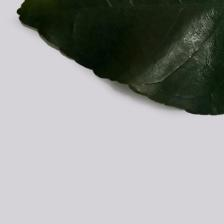healthy: (23, 4, 224, 92)
